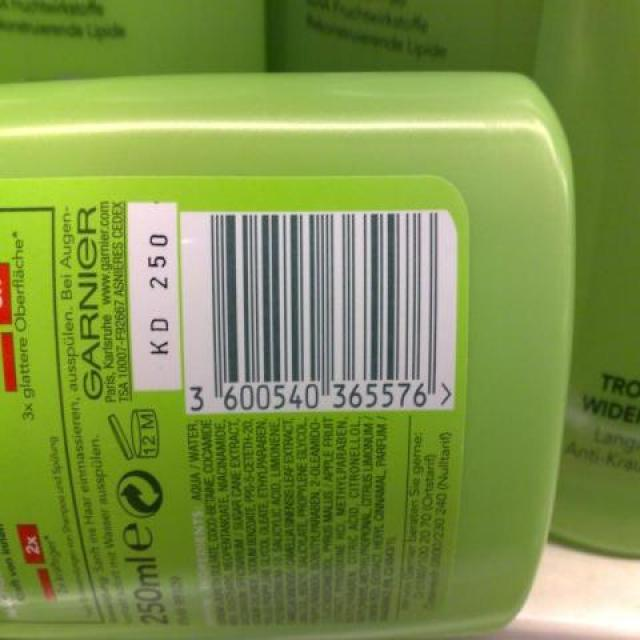Barcode: (178, 200, 458, 411)
